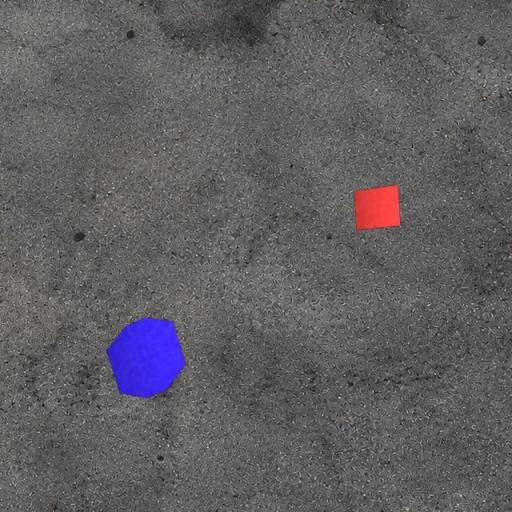RED_SQUARE: (352, 184, 402, 230)
